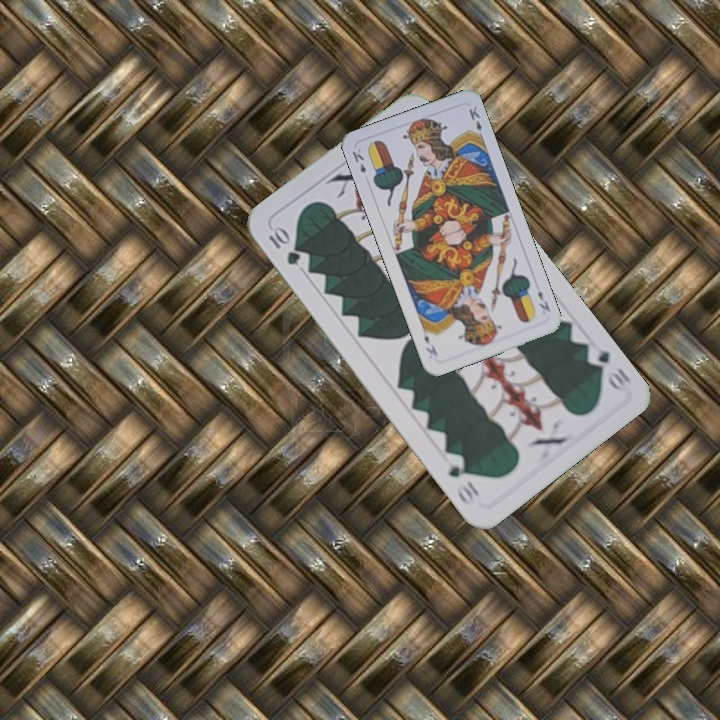EK: (348, 144, 369, 176), (534, 287, 553, 314)
G10: (582, 340, 634, 393), (264, 223, 303, 268)
